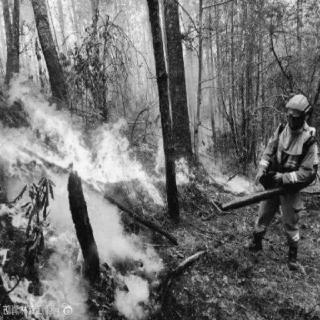Fire: (3, 64, 189, 314), (208, 156, 258, 196)
